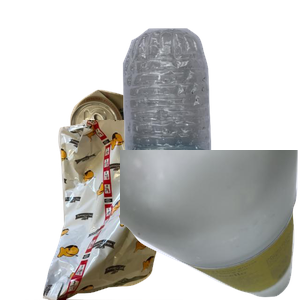glass: (120, 150, 300, 300)
metal: (67, 87, 206, 234)
plastic: (111, 26, 300, 206)
trash: (25, 120, 198, 300)
